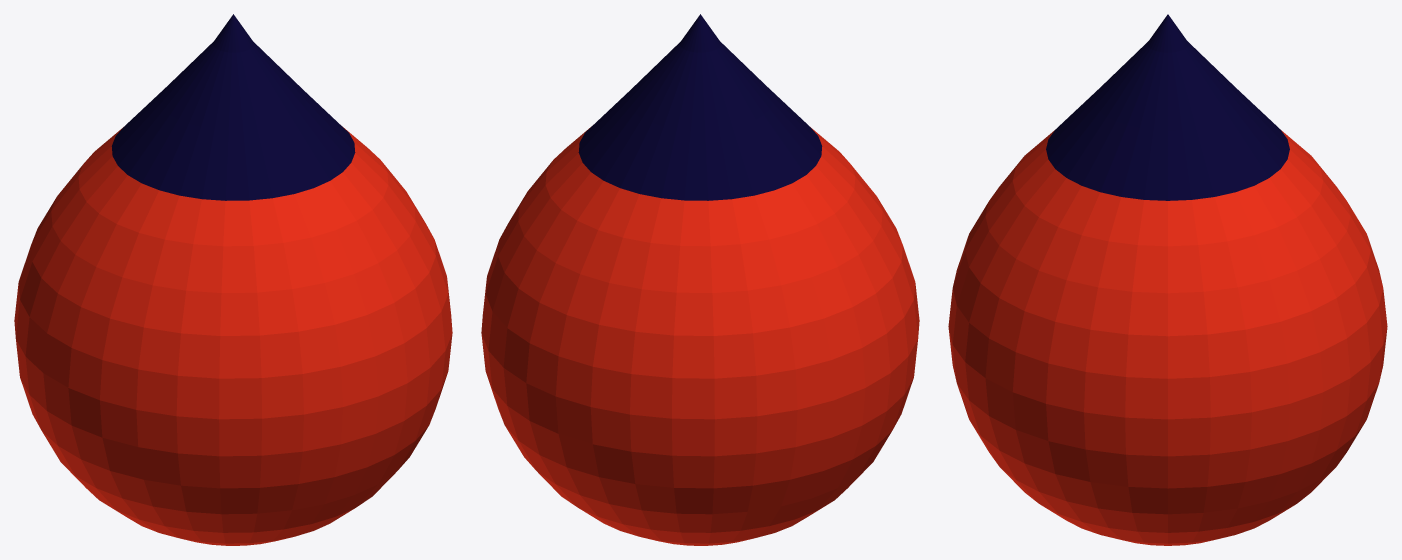
File: buoy.dae
3 views of the same model, side by side, from view 1: azimuth 30°, elevation 25°; view 2: azimuth 150°, elevation 25°; view 3: azimuth 270°, elevation 25° (orthographic).
Visible parts, largest first — view 1: Sphere; view 2: Sphere; view 3: Sphere.
Part boxes in pixels (<box>): Sphere: <box>14,14,452,545</box>; Sphere: <box>481,14,919,545</box>; Sphere: <box>948,14,1387,545</box>.
Size of the model in its own units: 0.2852 by 0.2852 by 0.3667.
